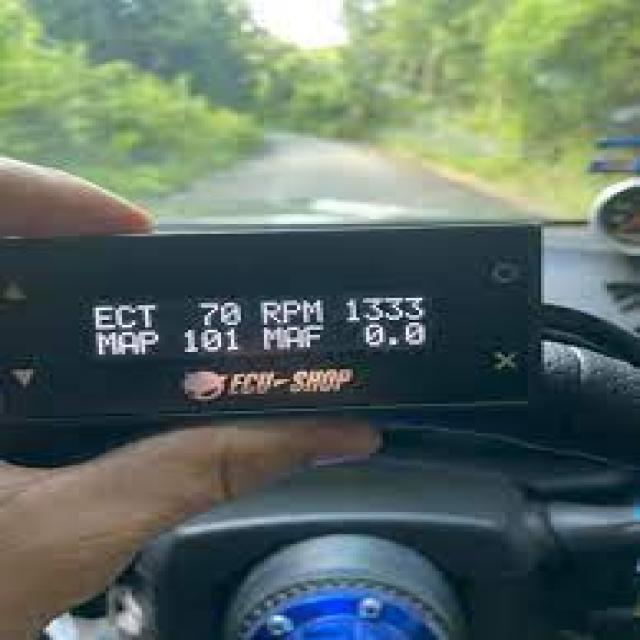display: (85, 289, 442, 360)
frame: (342, 294, 430, 323), (175, 324, 242, 354), (361, 323, 428, 351), (194, 296, 245, 330)
gauge: (0, 218, 542, 430)
